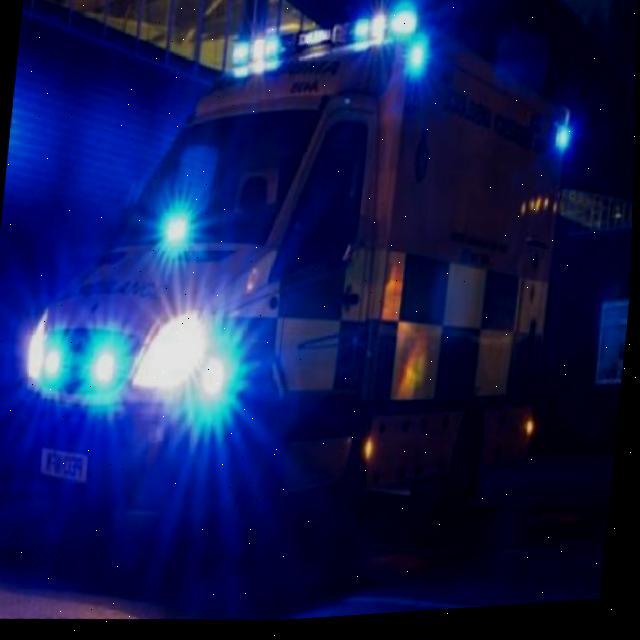emergency: (0, 0, 588, 577)
